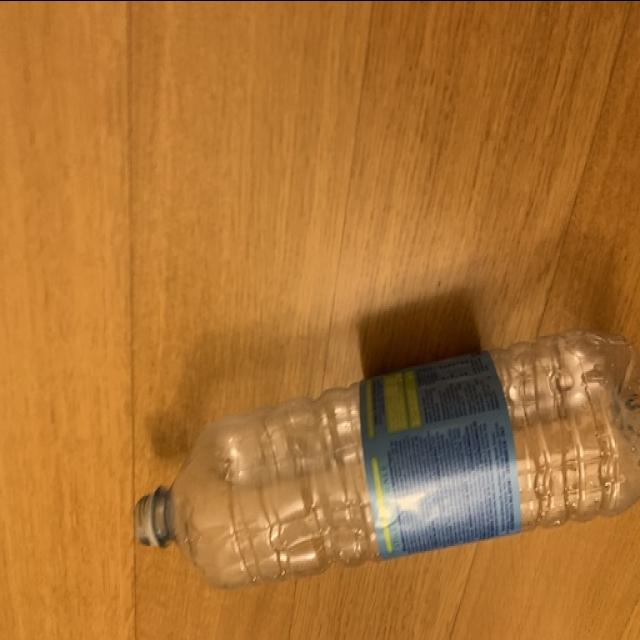PET: (134, 316, 640, 588)
